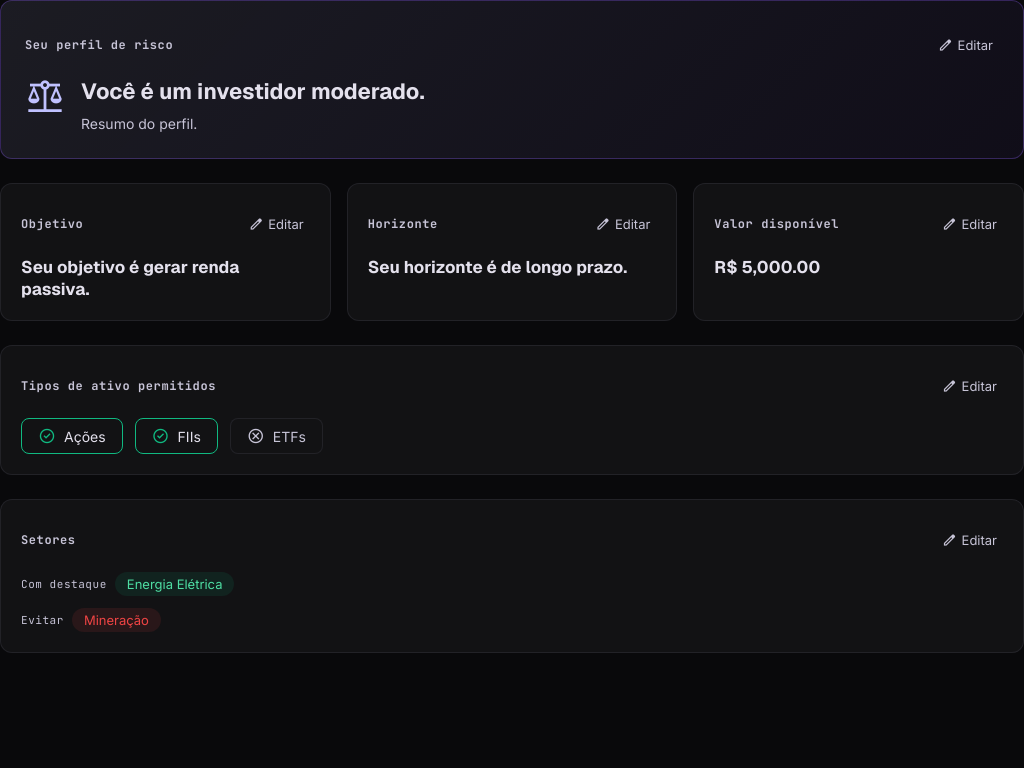
Scenario: PreferenciasPerfilComponent › cancelar deve descartar o rascunho e voltar ao valor salvo
The image size is (1024, 768).
Click the button with class "campo-editavel__editar" in the row of "Seu perfil de risco": (965, 45) [932,25,999,65]
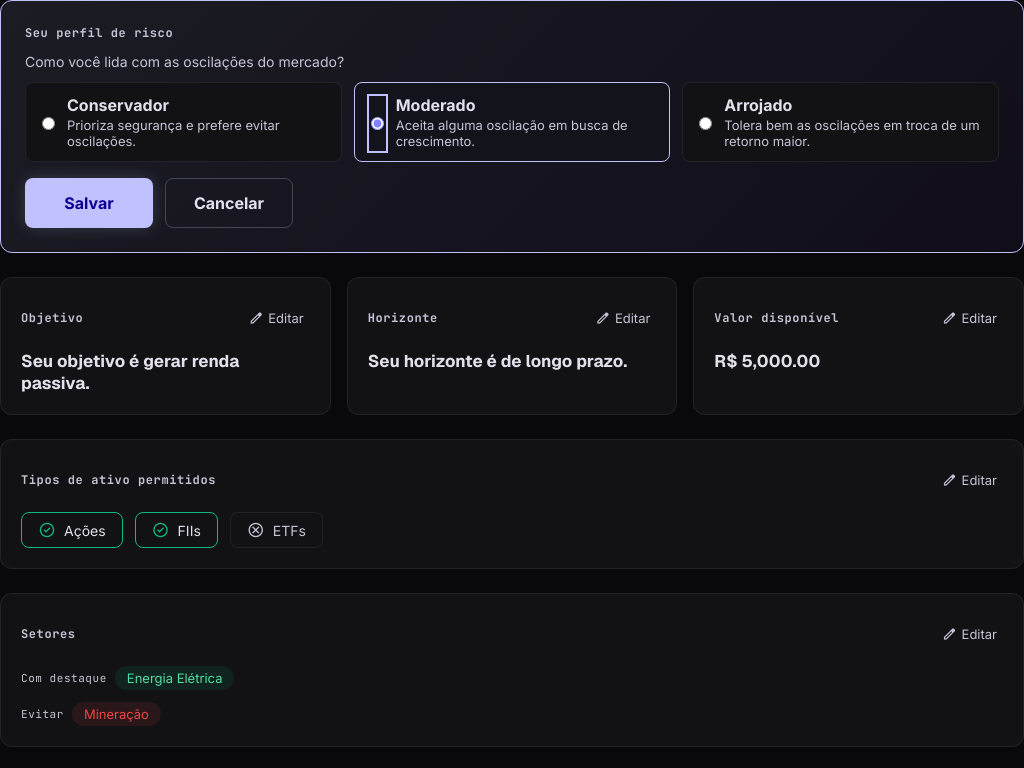
Click the radio button labelled "Conservador Prioriza segurança e prefere evitar oscilações.": (48, 124) [42,98,55,149]
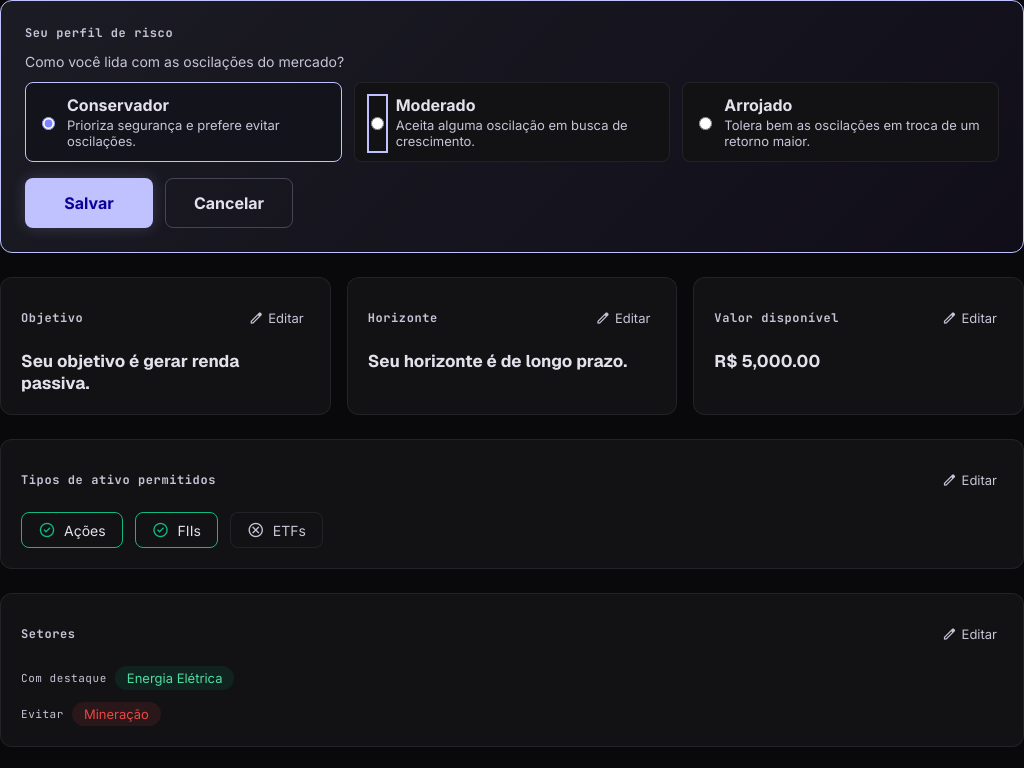
Click the button "Cancelar": (229, 203) [165,178,293,228]
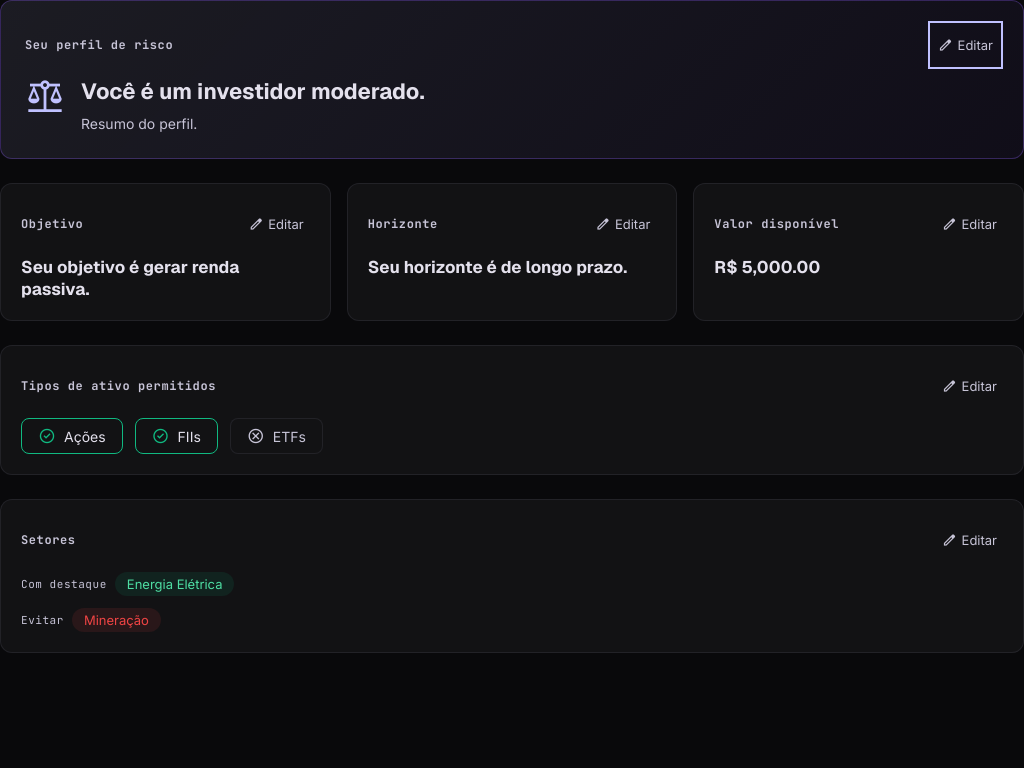
Click the button with class "campo-editavel__editar" in the row of "Seu perfil de risco": (965, 45) [932,25,999,65]
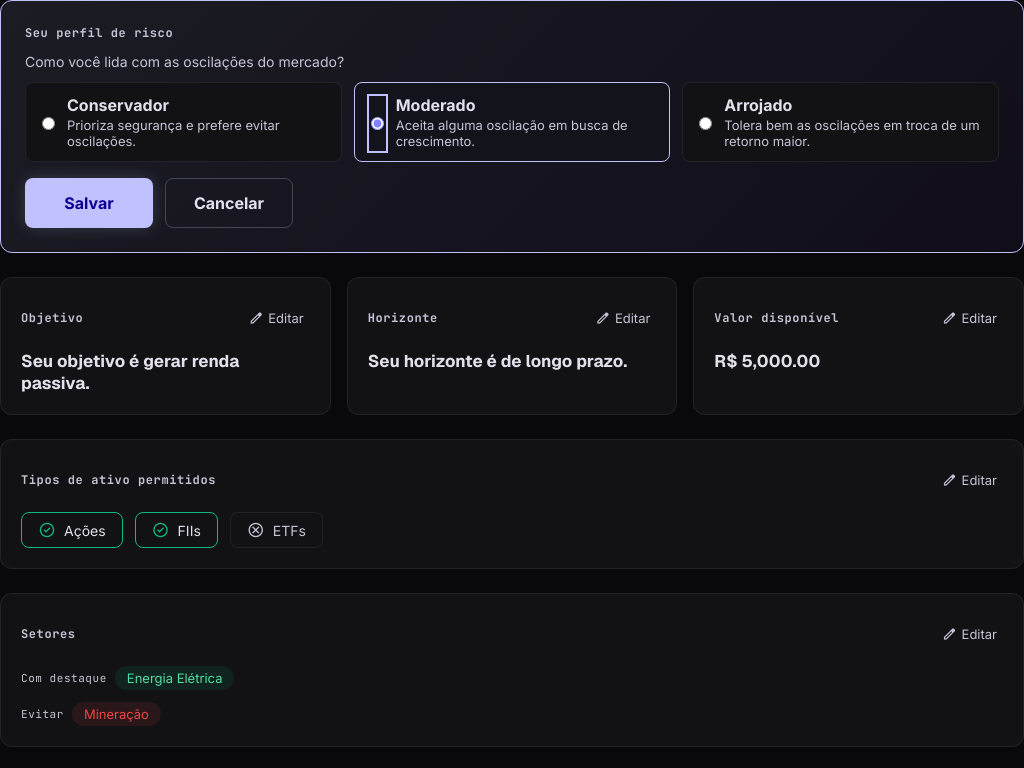
Expected: the radio button labelled "Moderado Aceita alguma oscilação em busca de crescimento." is checked, [371,98,384,149]
